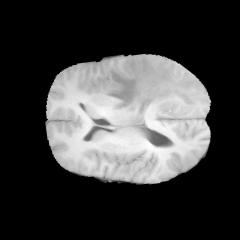glioma: (105, 55, 201, 111)
